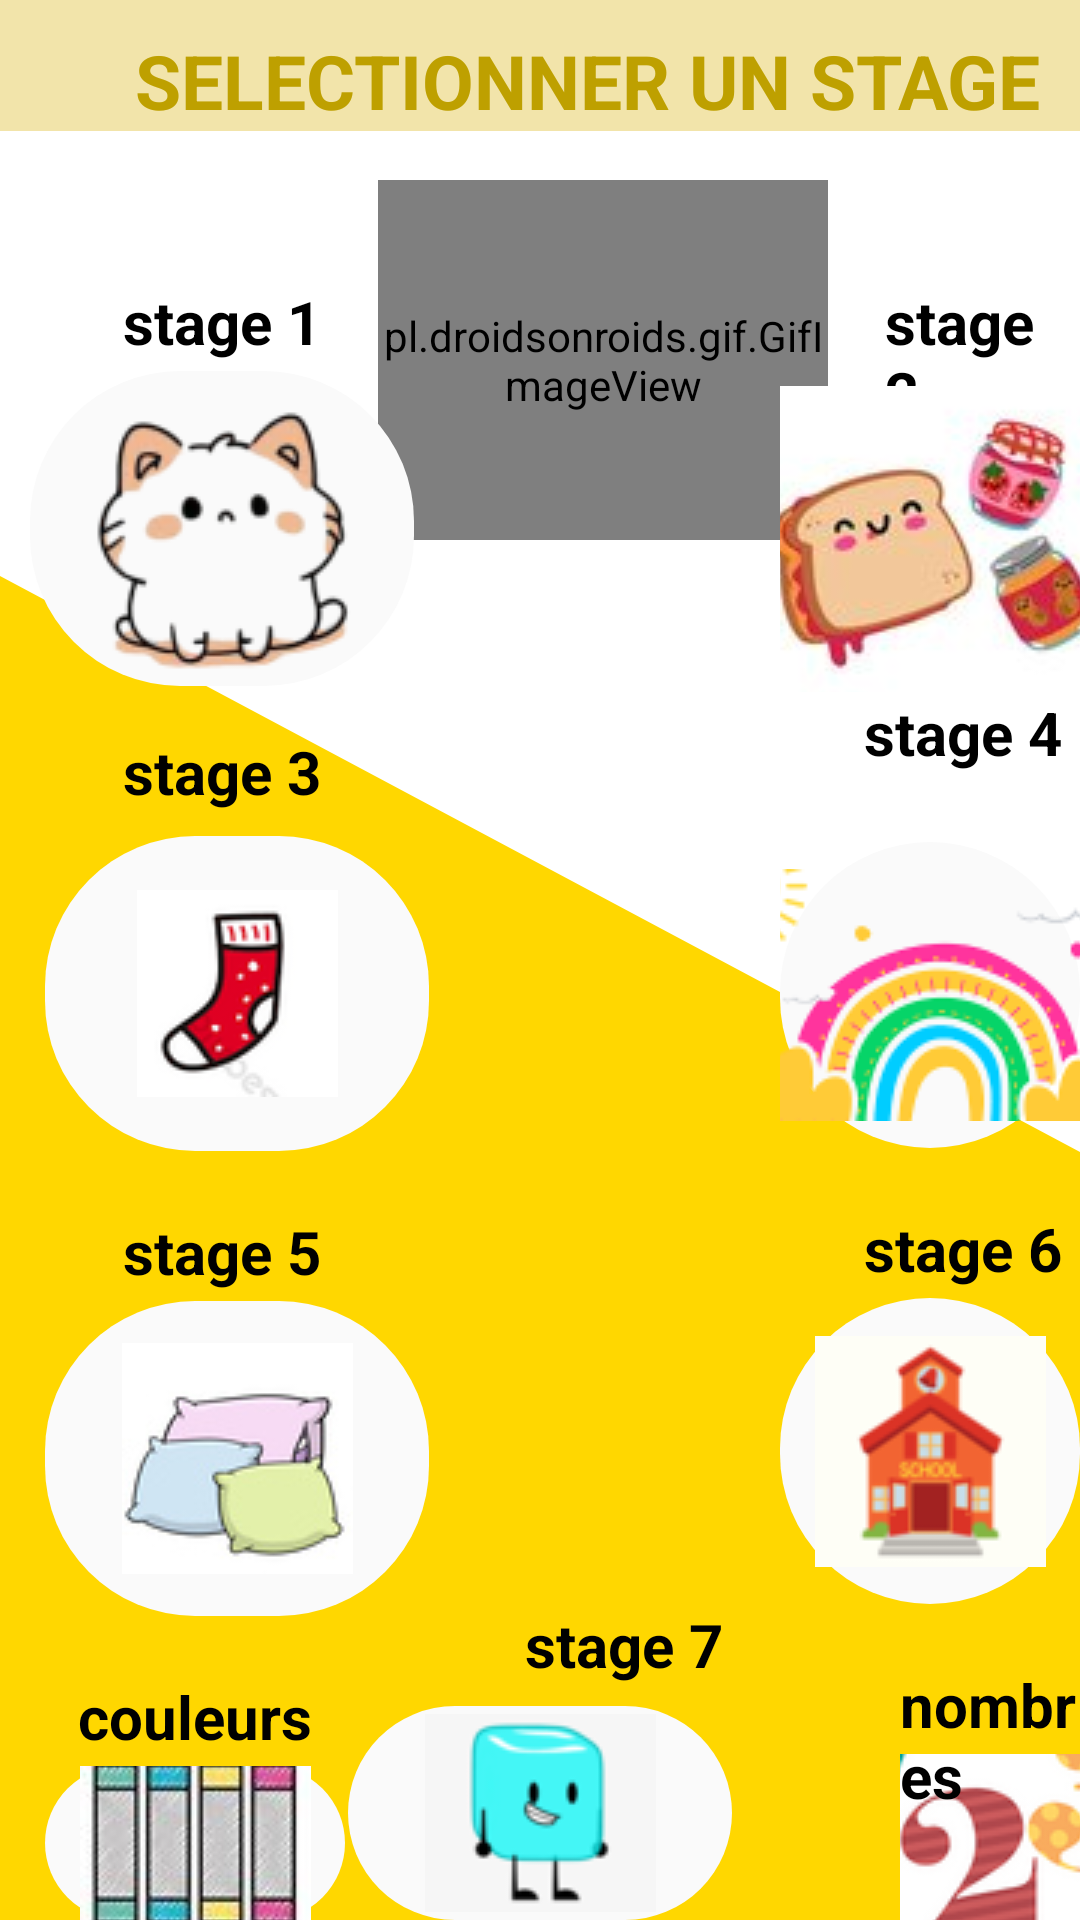

Screen size 1080px×1920px. Icon name, then its center in pixels as [x,y]:
rainbowback rev: [930,995]
rsz 1download: [195,1843]
rsz picnicjpg: [930,543]
smolcatprev: [222,540]
